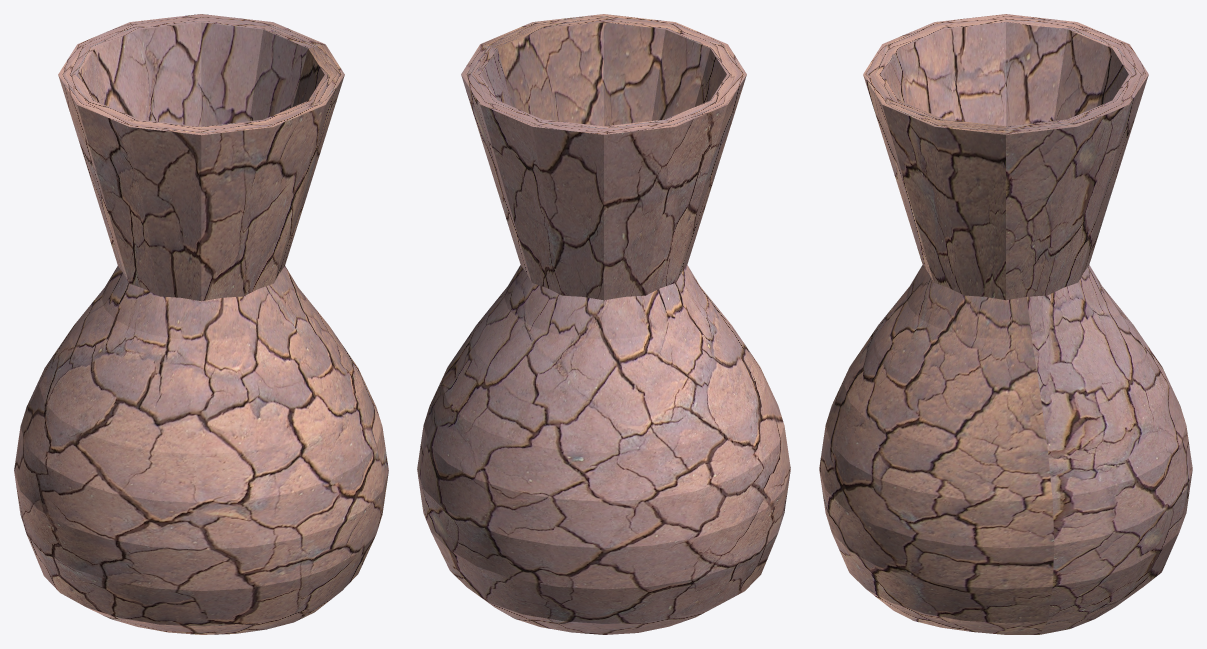
The model's file is vase1.fbx.
3 views of the same model, side by side, from view 1: azimuth 30°, elevation 25°; view 2: azimuth 150°, elevation 25°; view 3: azimuth 270°, elevation 25° (orthographic).
Parts seen in each view (by area): view 1: pPipe2; view 2: pPipe2; view 3: pPipe2.
Part boxes in pixels (x1=…): pPipe2: x1=14, y1=14, x2=388, y2=634; pPipe2: x1=417, y1=14, x2=790, y2=634; pPipe2: x1=819, y1=14, x2=1192, y2=634.
Bounding box in the file's own units: 80.74 × 124 × 80.74.
Materials: 2 (2 with a texture image).
